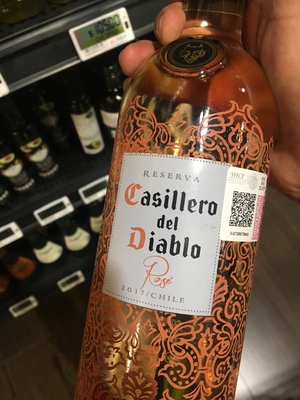casillero del diablo rose: (80, 18, 297, 400)
